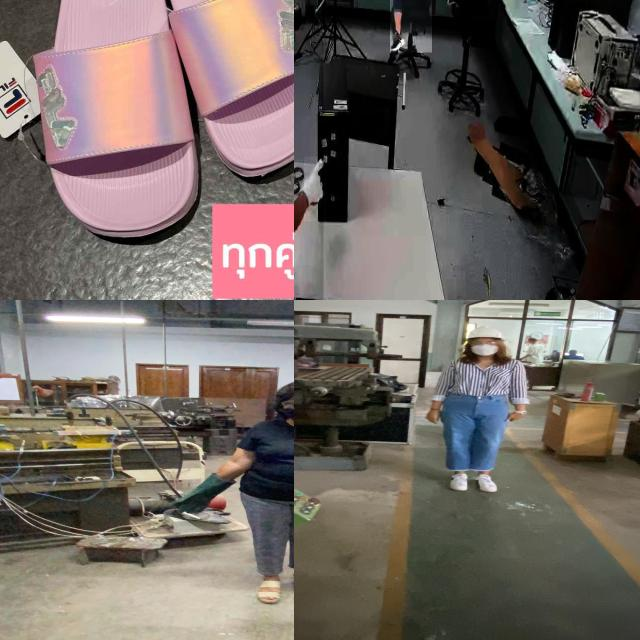Sandals: (11, 0, 294, 253)
face_mask: (277, 396, 294, 424), (472, 340, 501, 356)
glasses: (466, 338, 498, 345), (277, 397, 294, 409)
hand_glove: (304, 156, 328, 222), (163, 490, 212, 516)
hand_noglove: (423, 408, 445, 424), (502, 411, 524, 423)
head_helmet: (465, 325, 506, 340)
head_nohelmet: (274, 378, 294, 397)
person: (166, 381, 294, 605), (389, 0, 432, 53)
shoes: (472, 472, 500, 494), (448, 472, 472, 491), (390, 28, 406, 54)
